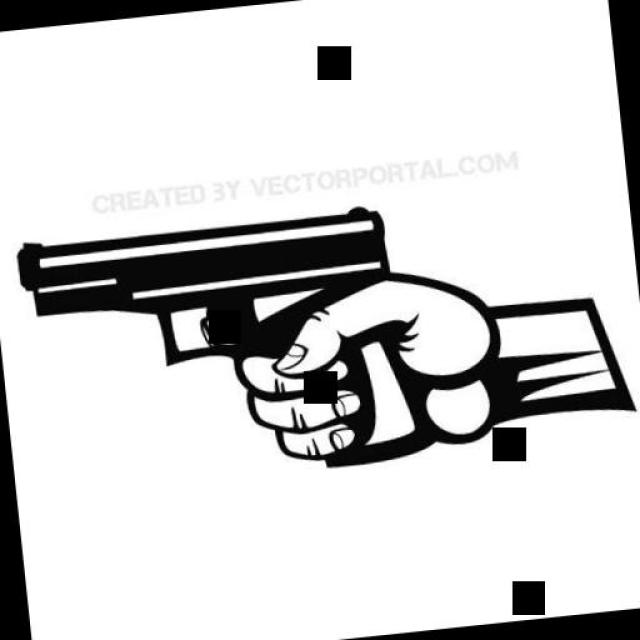gun: (14, 202, 431, 502)
